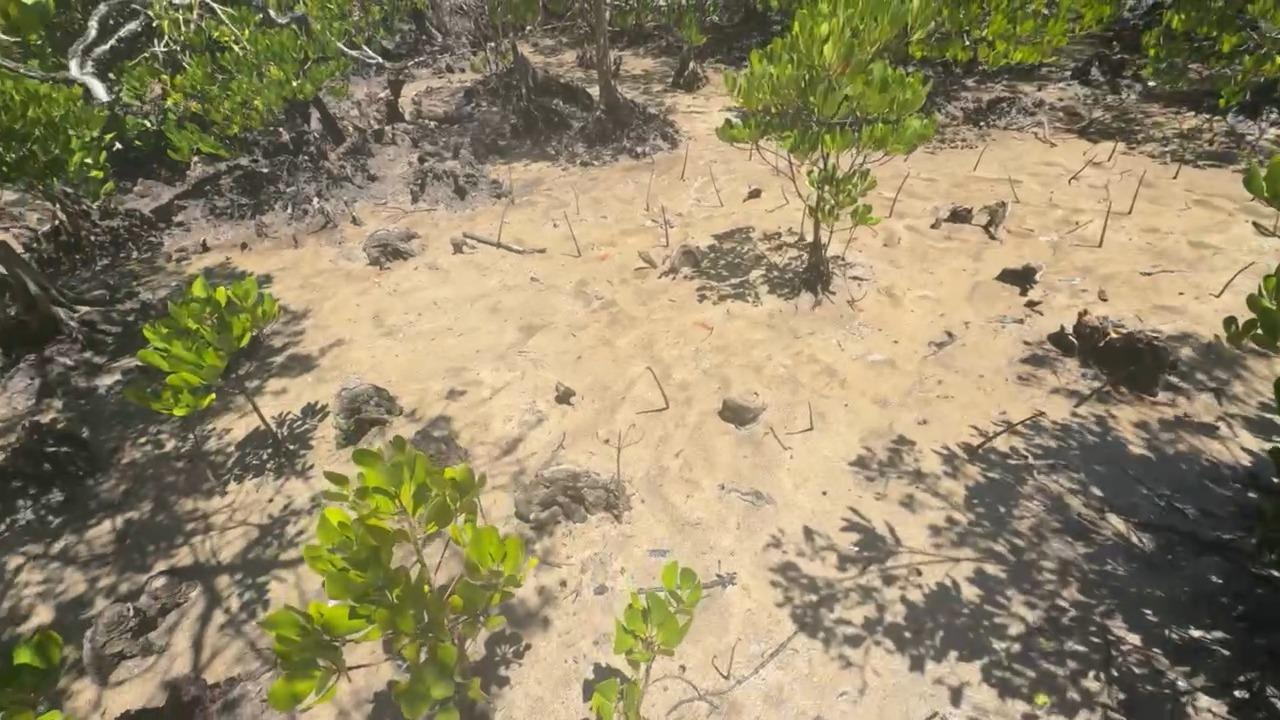Tree: (592, 558, 703, 720), (975, 411, 1044, 450), (1074, 365, 1135, 406), (1217, 261, 1256, 299), (888, 171, 911, 218), (647, 365, 670, 409), (1067, 153, 1097, 185), (564, 210, 582, 257), (617, 431, 626, 523), (1128, 169, 1146, 215), (708, 166, 724, 206), (497, 200, 510, 248), (1172, 141, 1188, 180), (799, 193, 811, 241), (1100, 201, 1111, 249), (727, 638, 739, 679), (973, 144, 988, 171), (1008, 175, 1021, 203), (645, 170, 654, 210), (680, 142, 689, 180), (507, 163, 515, 205), (661, 203, 669, 245), (1108, 138, 1121, 162), (571, 183, 579, 211), (808, 401, 815, 431), (781, 185, 789, 204)
